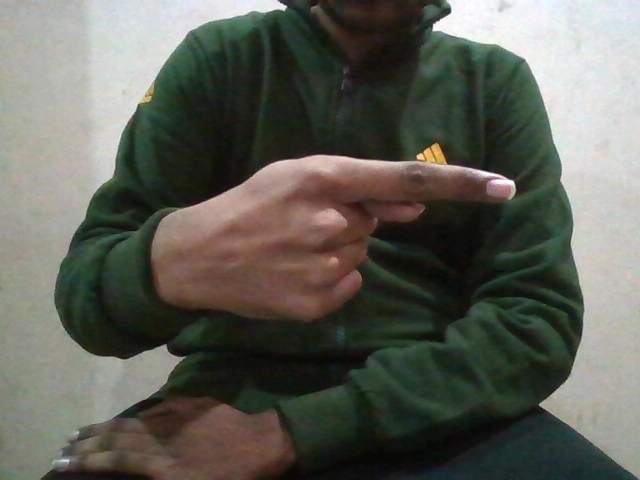G: (165, 153, 519, 326)
